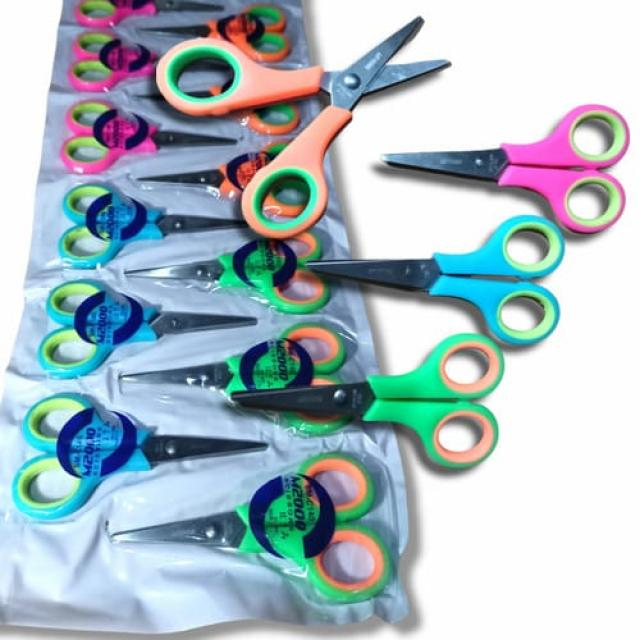scissor: (368, 97, 638, 237)
